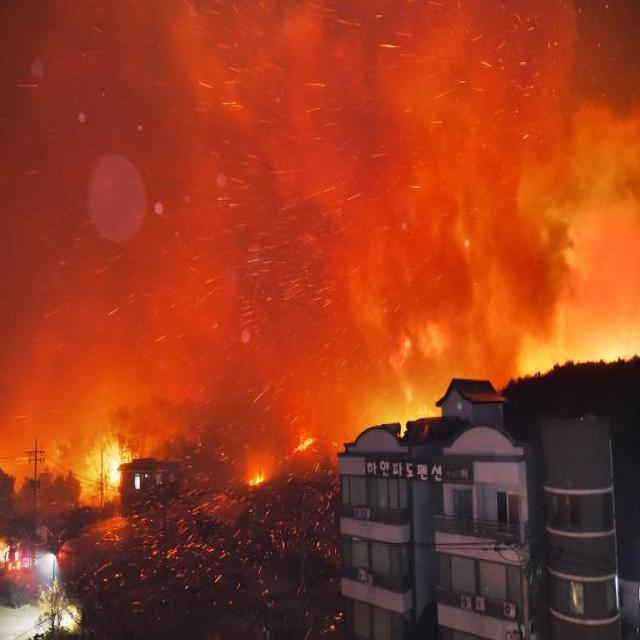Fire: (497, 322, 640, 397), (70, 394, 145, 509), (362, 364, 449, 458), (225, 411, 273, 526), (281, 394, 344, 452)
Smoke: (229, 14, 640, 318)
